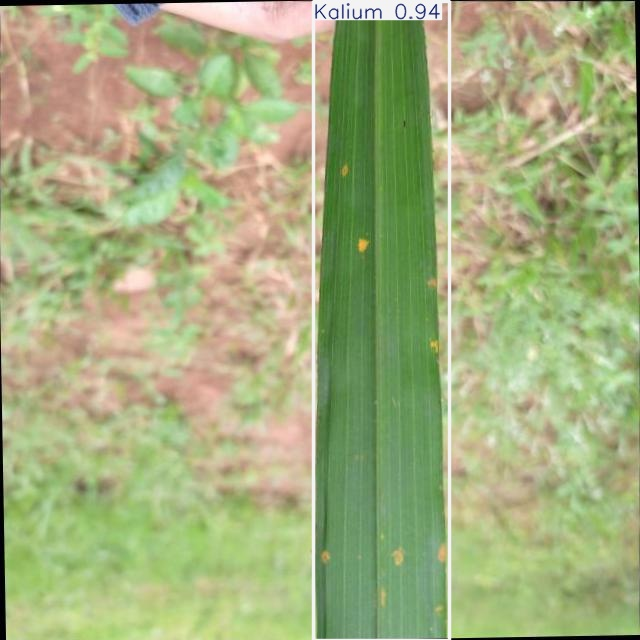Kalium: (314, 1, 450, 640)
